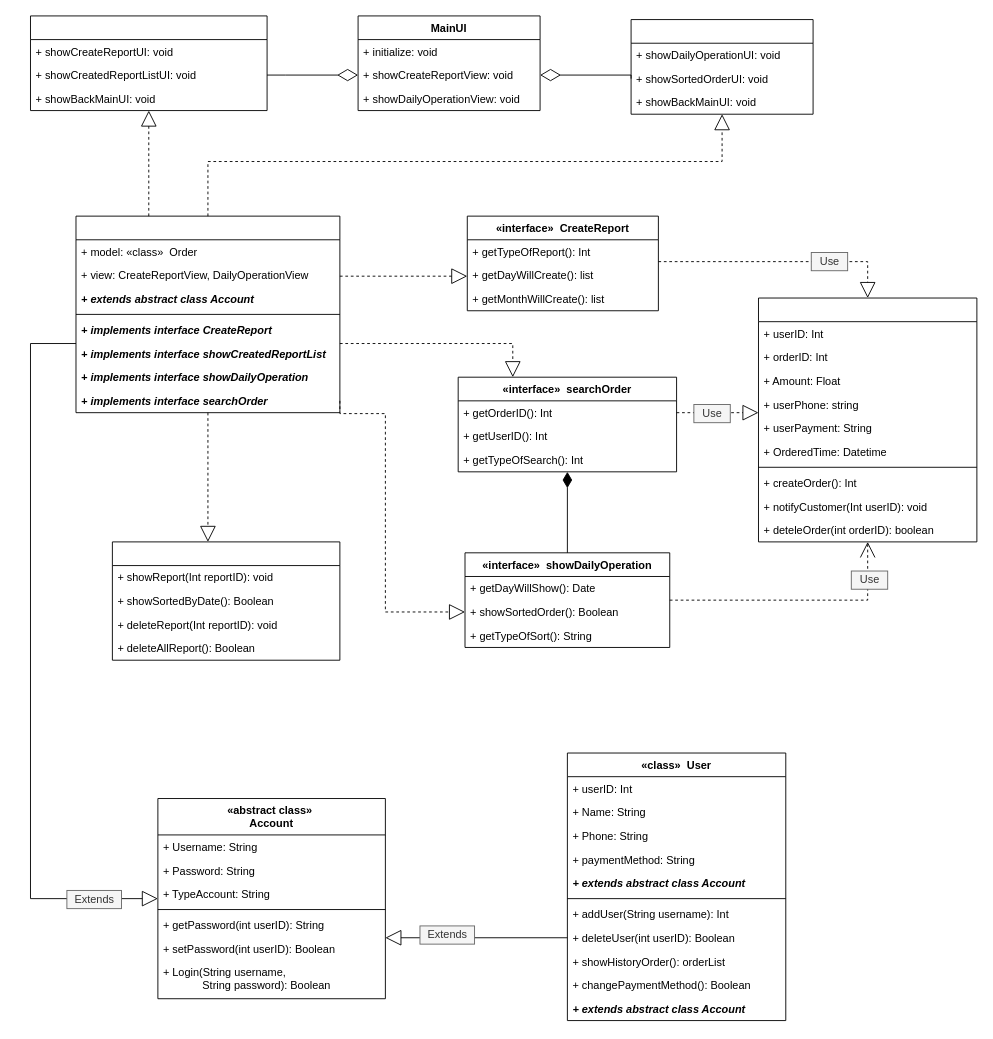
The diagram is 993 pixels wide and 1039 high, and some of its shapes have lost their labels. The box of each missing label's shape, as (x1, y1, x2, y2) in pixels:
CreateReportView: (30, 15, 267, 111)
DailyOperationView: (630, 19, 813, 114)
«class» Manager: (75, 215, 340, 413)
«class» Order: (758, 297, 977, 542)
«interface» showCreatedReportList: (111, 541, 340, 660)
